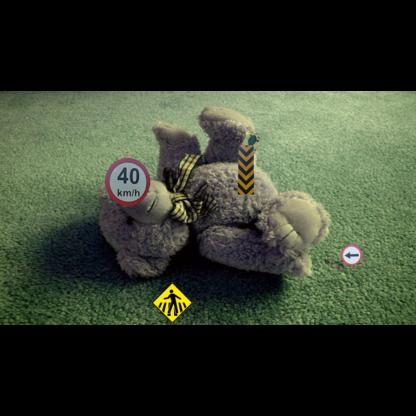A-32b: (152, 282, 193, 323)
O-MP: (238, 145, 254, 195)
R-19: (105, 157, 150, 206)
R-24a: (341, 245, 362, 265)
